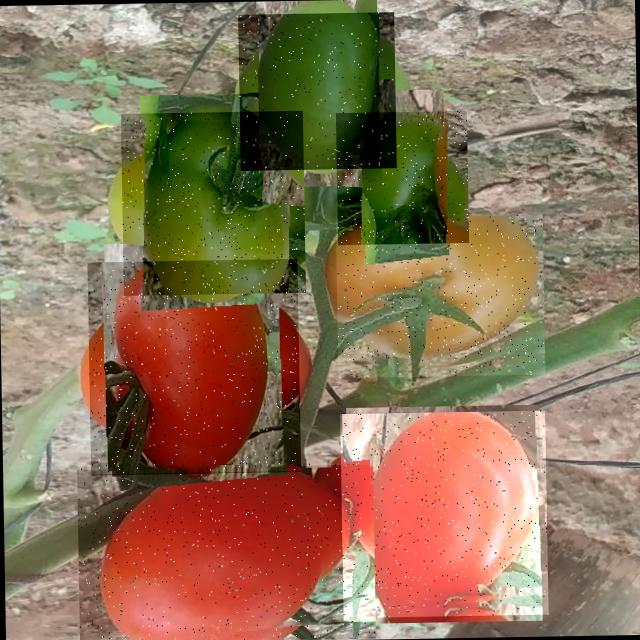Ripe Tomato: (76, 461, 375, 640), (87, 258, 301, 472), (340, 410, 548, 618)
Unripe Tomato: (335, 214, 545, 378), (121, 110, 306, 296), (238, 11, 396, 170), (336, 110, 468, 244)
